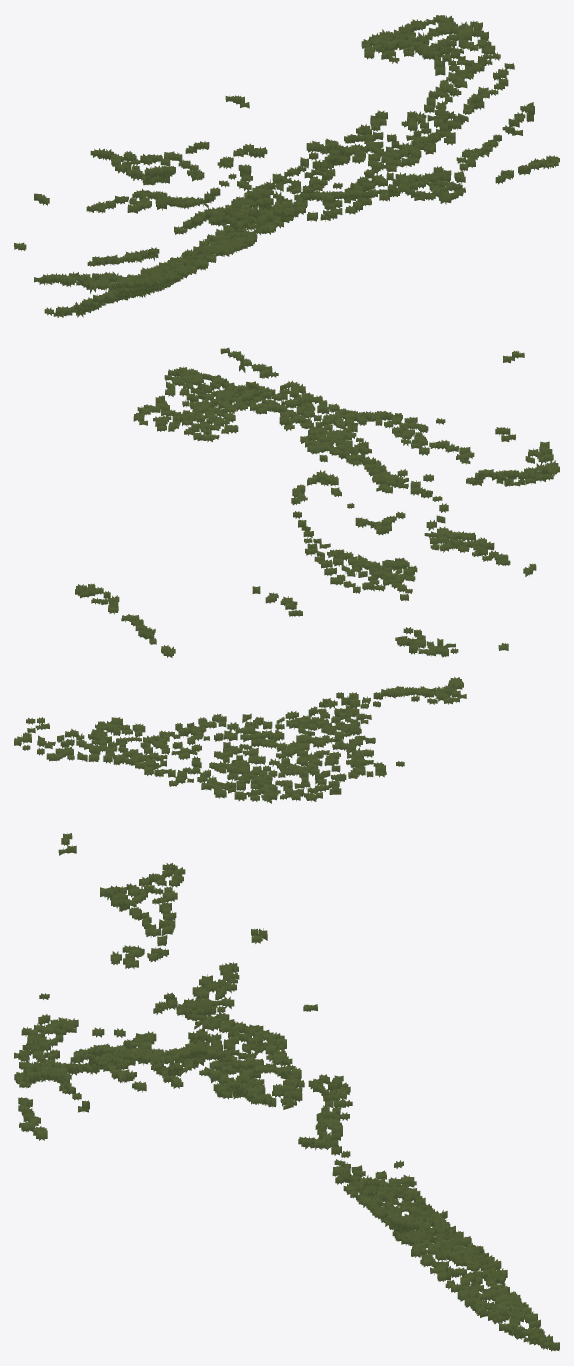
File: TRB8-GRASS-CHUNK-2-0.glb
3 renders of one model, top to bottom at view 1: azimuth 30°, elevation 25°; view 2: azimuth 150°, elevation 25°; view 3: azimuth 270°, elevation 25°, orthographic. The views are drawn at different scales.
Parts seen in each view (by area): view 1: TRB8-GRASS-CHUNK-2-0; view 2: TRB8-GRASS-CHUNK-2-0; view 3: TRB8-GRASS-CHUNK-2-0.
Boxes of the visible parts, x1,y1,x2,y2 form: TRB8-GRASS-CHUNK-2-0: (14, 15, 559, 317); TRB8-GRASS-CHUNK-2-0: (14, 347, 559, 803); TRB8-GRASS-CHUNK-2-0: (14, 833, 559, 1351).
Bounding box in the file's own units: 24.41 × 19.97 × 25.64.
Materials: 1 (1 with a texture image).
